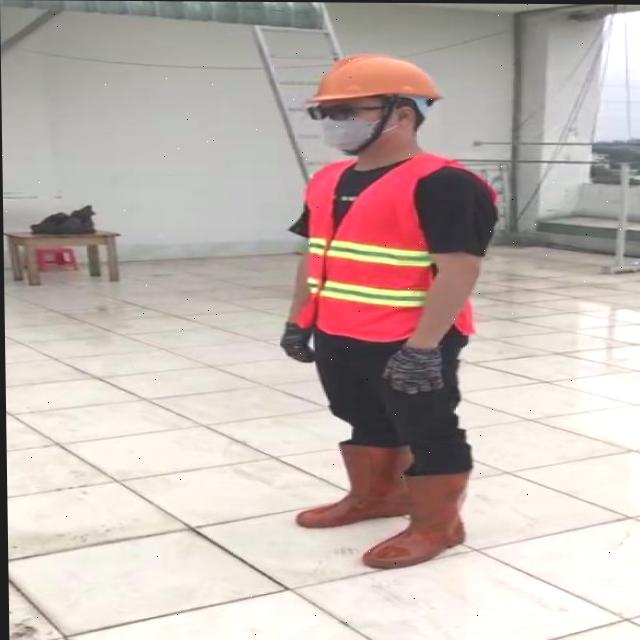Gloves: (380, 343, 443, 395), (278, 320, 314, 362)
Helmet: (302, 52, 443, 118)
Safety-Boot: (359, 465, 470, 568), (293, 437, 413, 528)
Safety-Vest: (294, 151, 483, 342)
